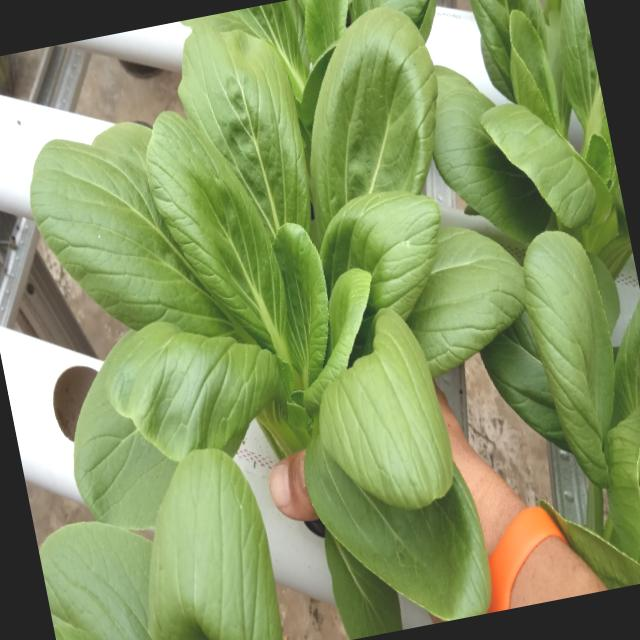pakcoy_sehat: (27, 14, 536, 625)
